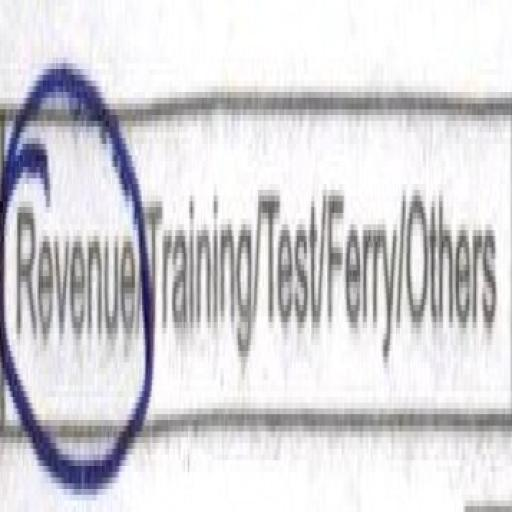check: (0, 29, 146, 509)
